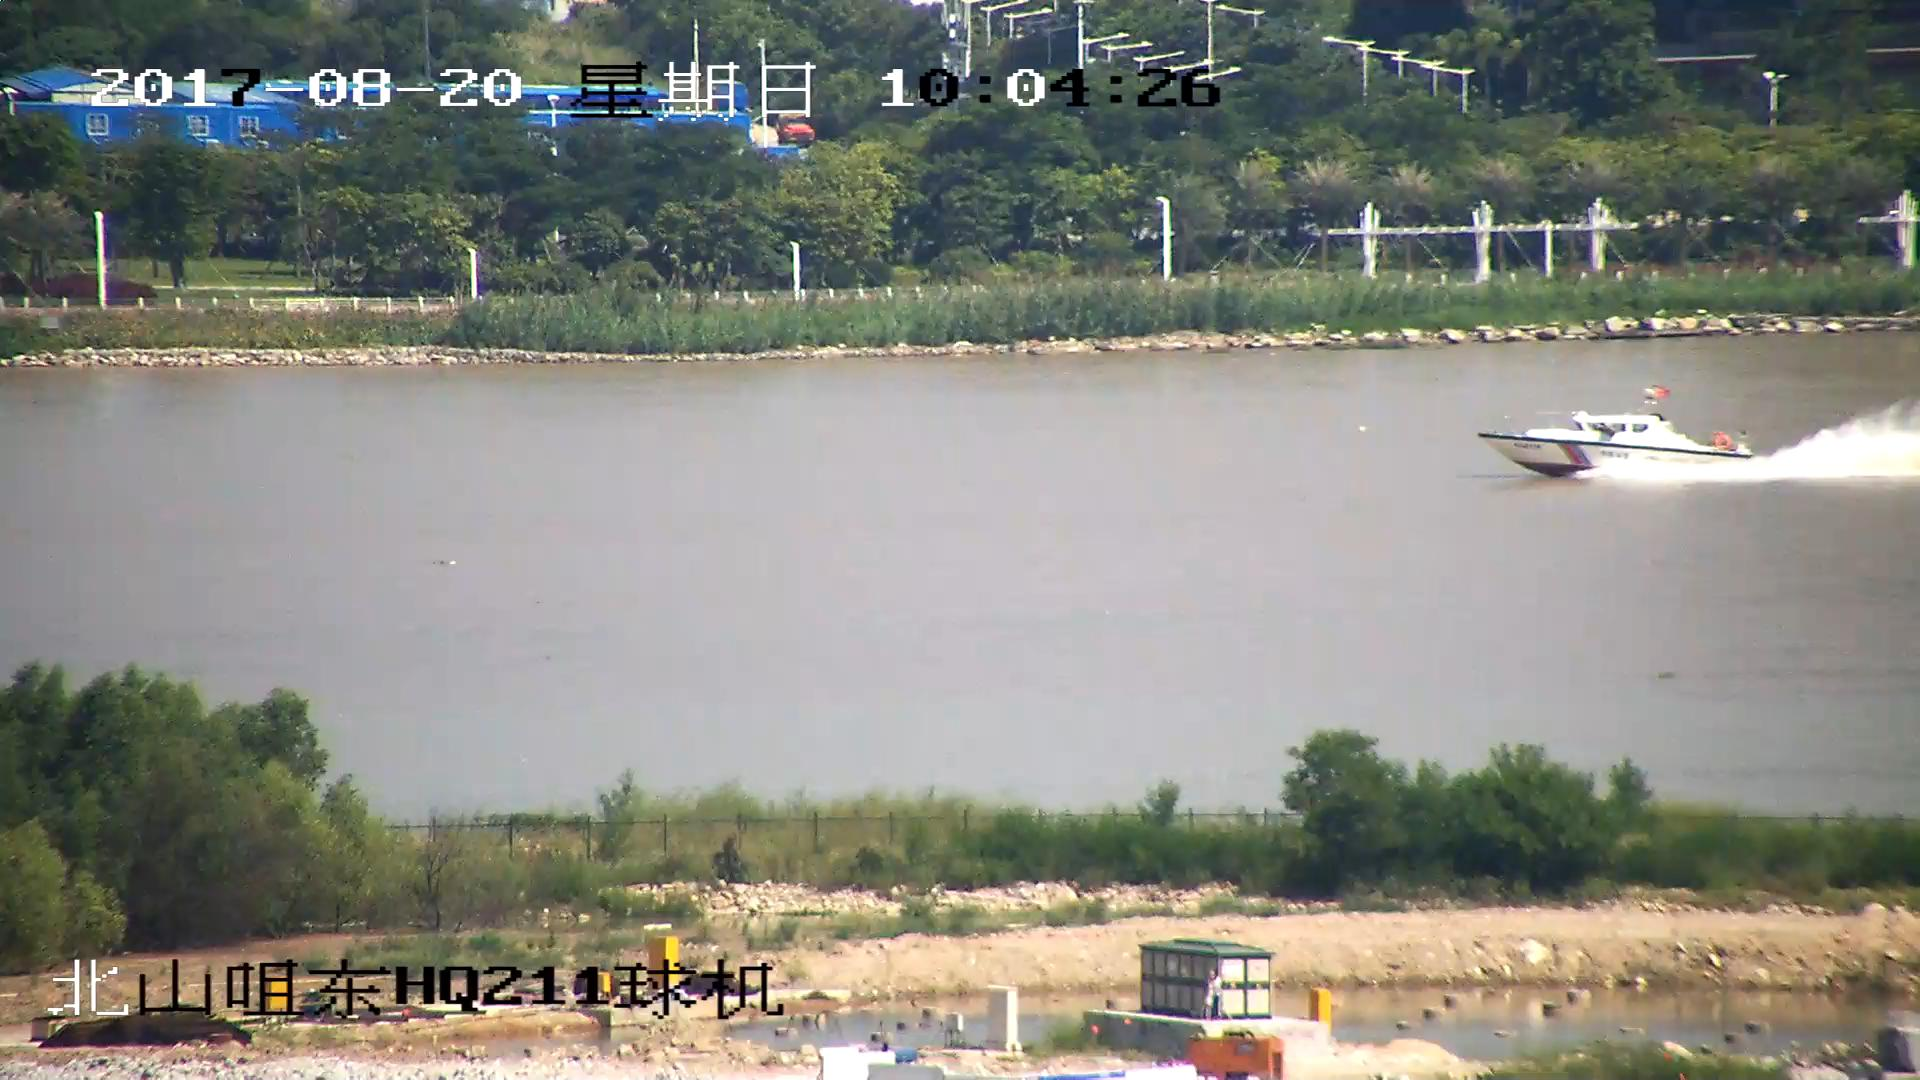passenger ship: (1484, 396, 1752, 476)
